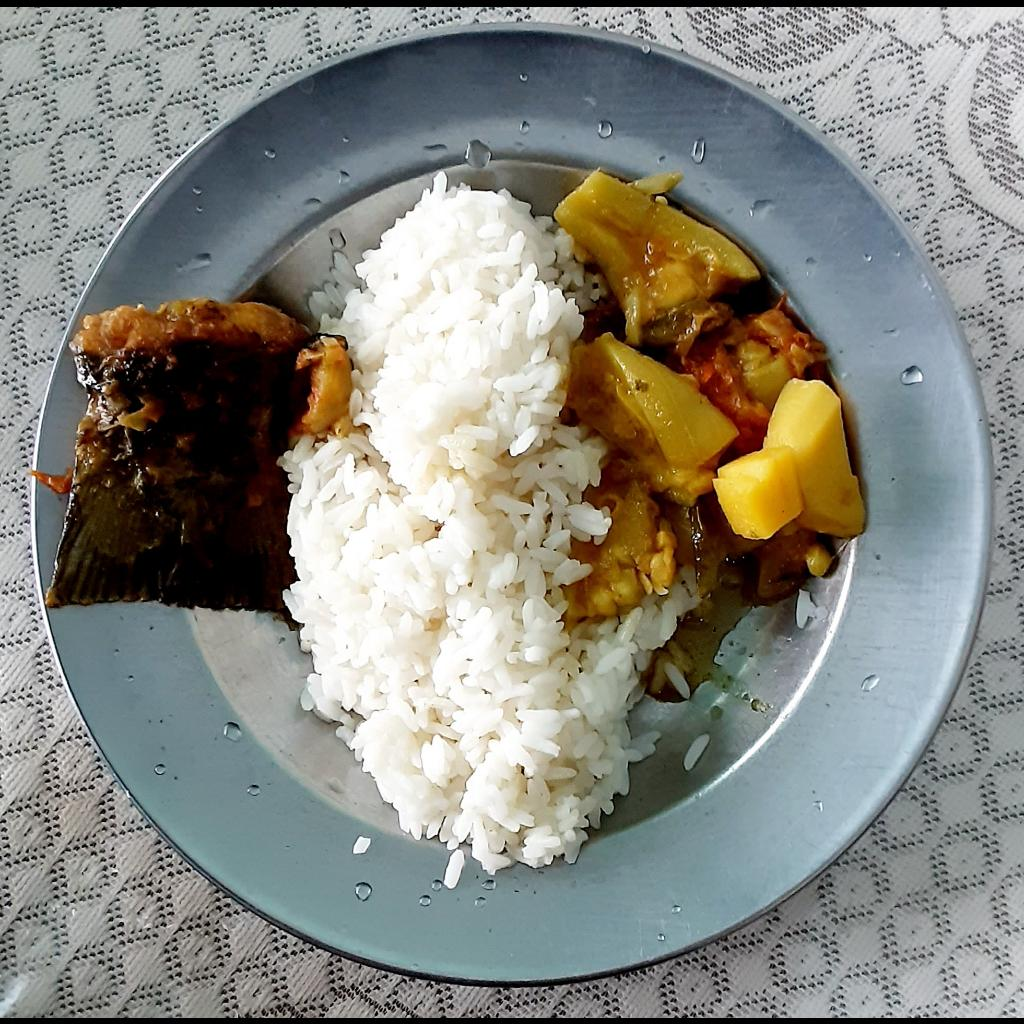fish: (46, 291, 358, 614)
potato: (712, 378, 866, 540)
potol: (570, 334, 747, 613), (554, 166, 761, 348)
rice: (282, 165, 704, 888), (682, 728, 711, 777), (793, 589, 818, 633), (347, 831, 375, 856)
tomato: (673, 494, 834, 682), (654, 299, 833, 440)
